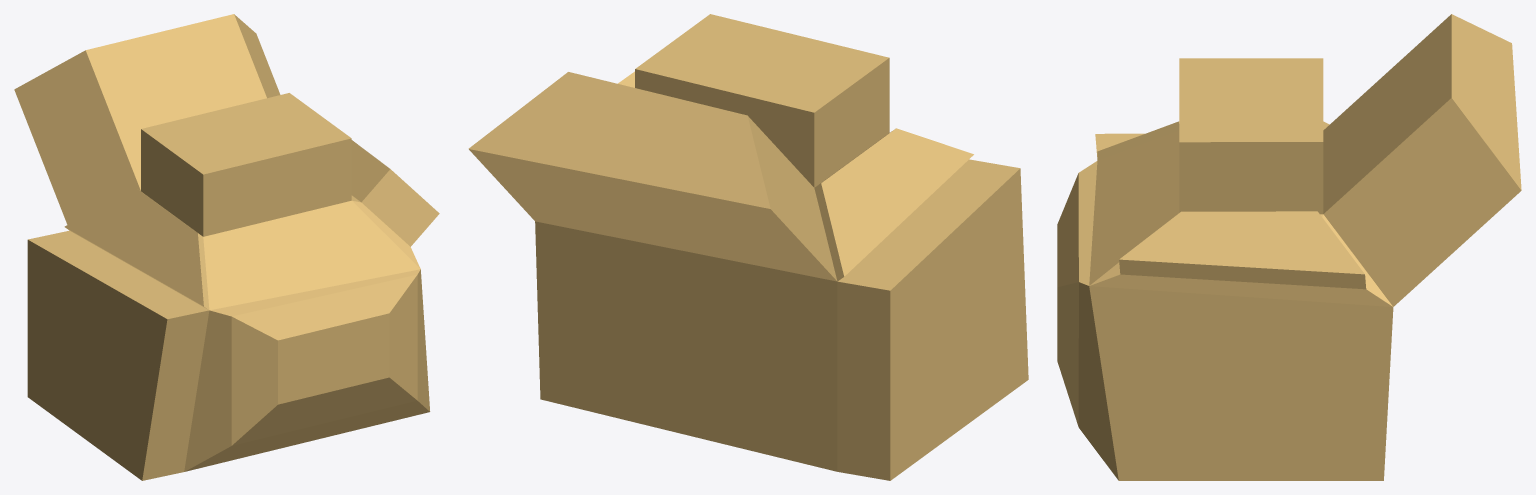
3 views of the same model, side by side, from view 1: azimuth 30°, elevation 25°; view 2: azimuth 150°, elevation 25°; view 3: azimuth 270°, elevation 25° (orthographic). The views are drawn at different scales.
Parts seen in each view (by area): view 1: Cube_1; view 2: Cube_1; view 3: Cube_1.
Part boxes in pixels (x1,y1,x2,y2): Cube_1: [14, 14, 439, 480]; Cube_1: [468, 14, 1028, 480]; Cube_1: [1057, 14, 1521, 480].
Size of the model in its own units: 2.41 by 2.26 by 2.69.
